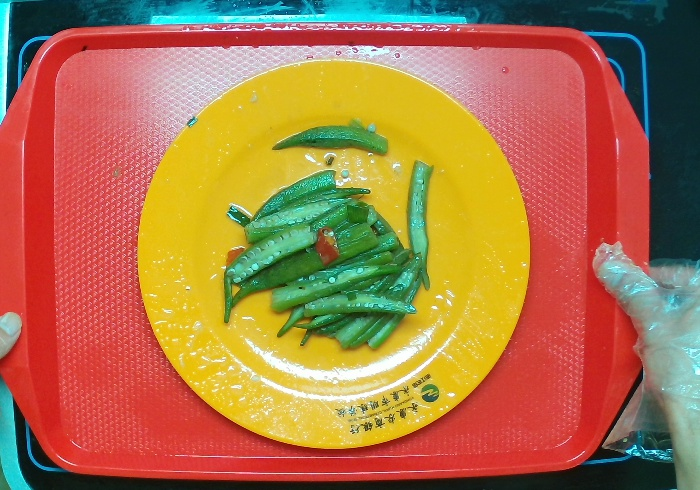YKMZ-Ju_Se_Mian_Pan: (123, 44, 546, 460)
